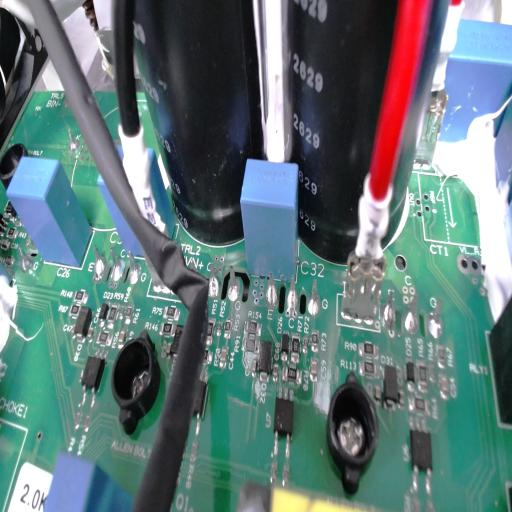pin_group: (377, 279, 448, 349), (85, 232, 145, 294), (263, 262, 324, 319), (186, 257, 244, 302)
solder_ball: (306, 270, 323, 318), (427, 296, 445, 340), (90, 238, 107, 284), (108, 243, 126, 283), (404, 293, 420, 337), (126, 246, 142, 287), (382, 287, 395, 331), (227, 266, 242, 301), (265, 268, 277, 306), (208, 261, 220, 298), (286, 272, 297, 311)
